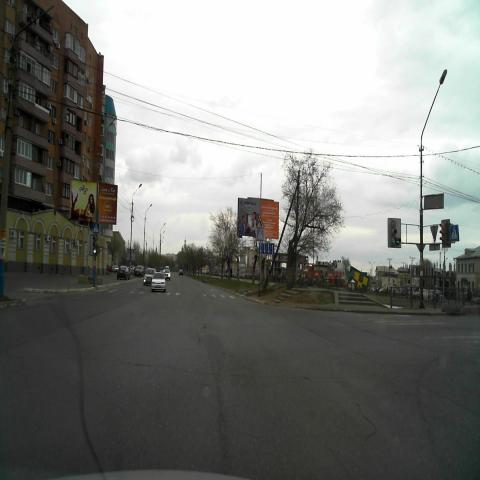5_15_7: (259, 241, 274, 255)
